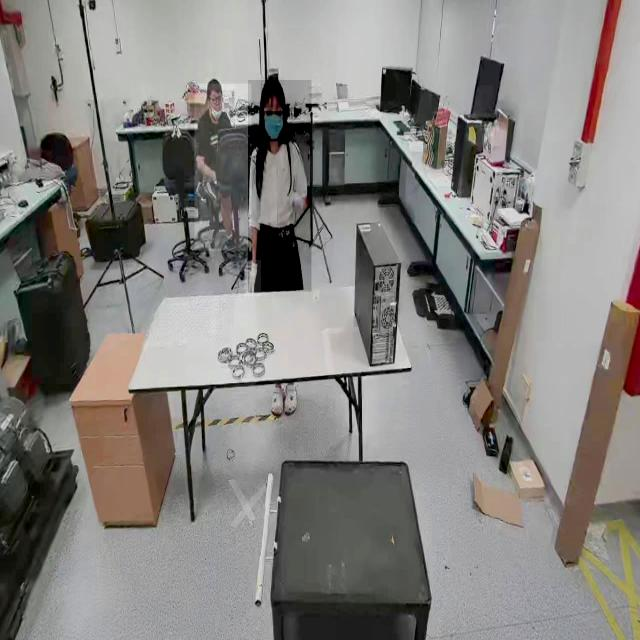face_mask: (260, 111, 288, 141)
glasses: (210, 95, 224, 106)
hand_glove: (244, 259, 262, 297)
head_nohelmet: (260, 77, 284, 95), (206, 77, 222, 91)
person: (248, 80, 312, 292), (194, 84, 252, 252)
